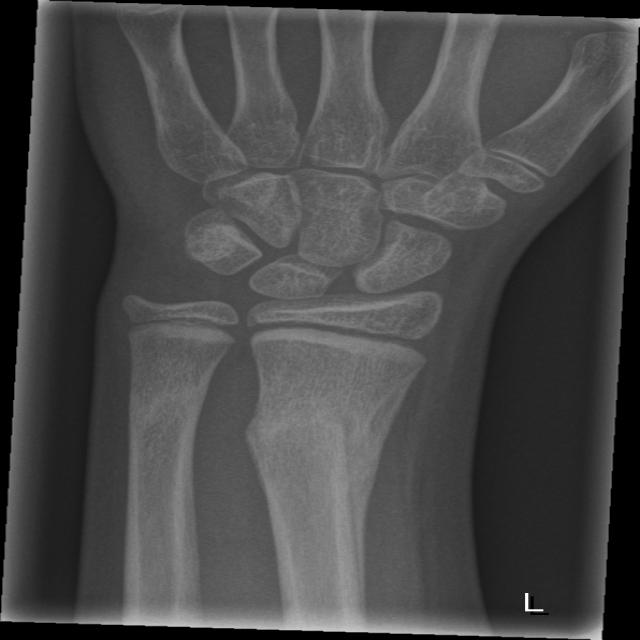radius fracture: (226, 406, 384, 489)
